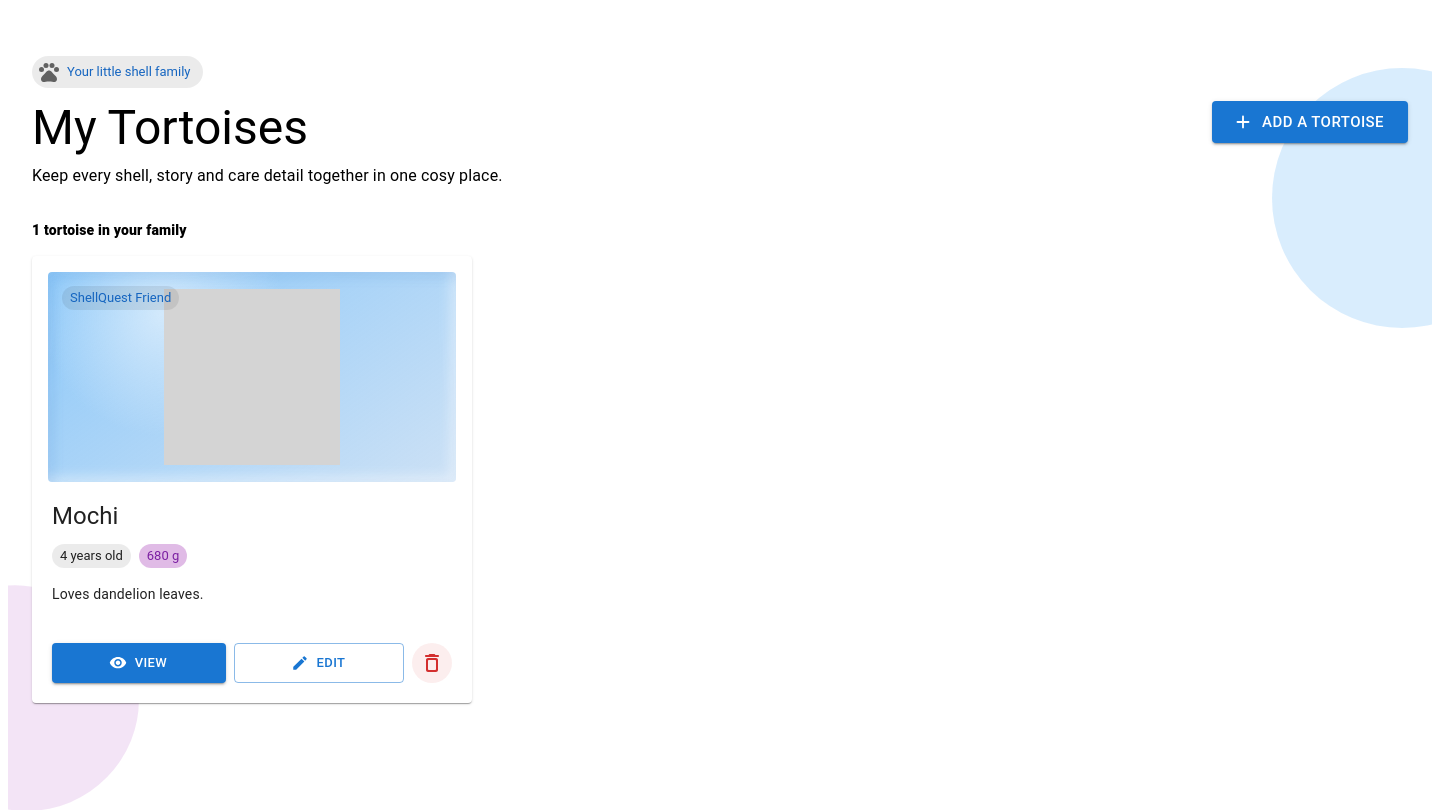
Test: MyTortoisesPage › does not delete when the confirmation dialog is cancelled
Expected: the heading "Mochi" is shown, x1=52 y1=502 x2=118 y2=530
Click the button named "Delete Mochi" at (432, 663), box x1=412 y1=643 x2=452 y2=683
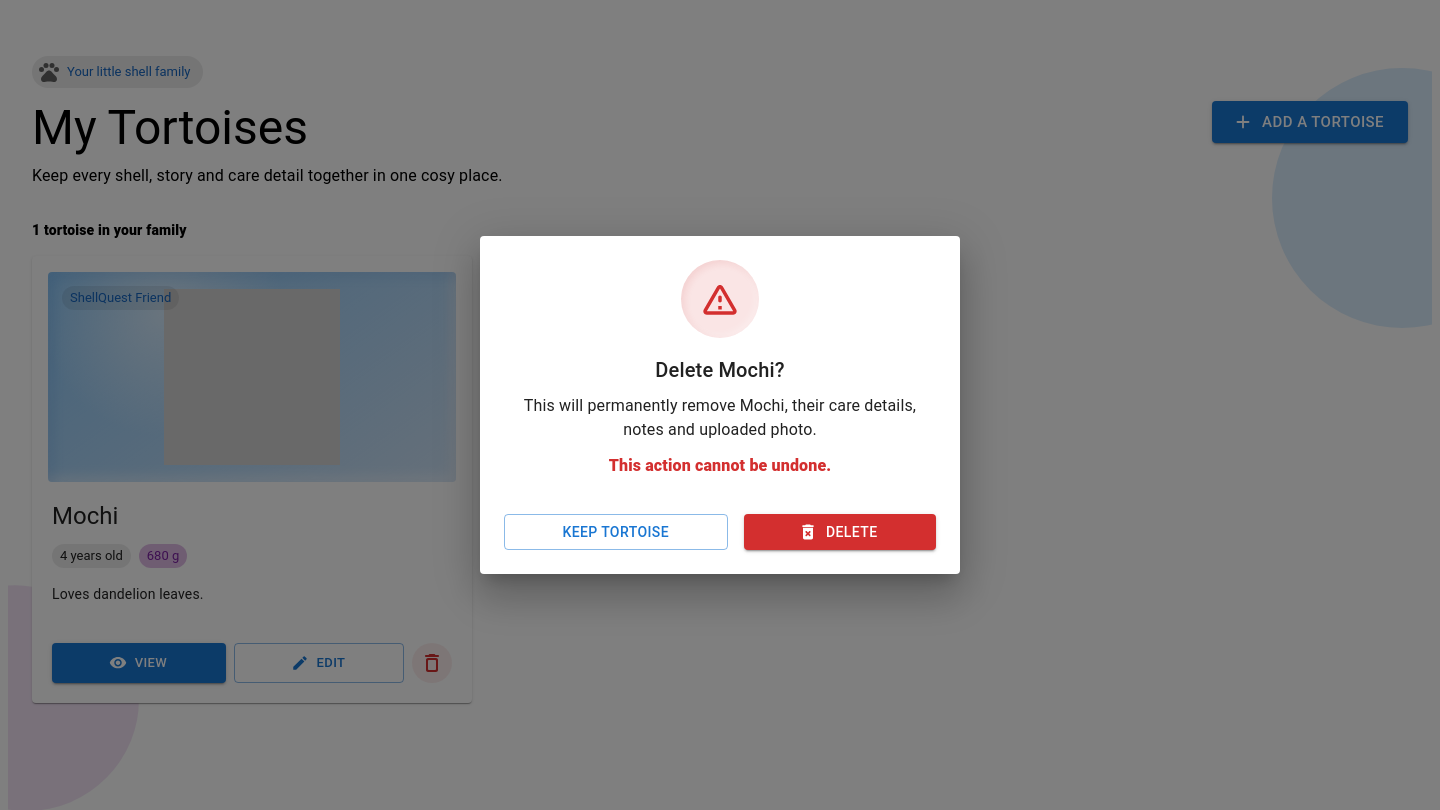
Click the button "Keep tortoise" at (616, 532), box x1=504 y1=514 x2=728 y2=550
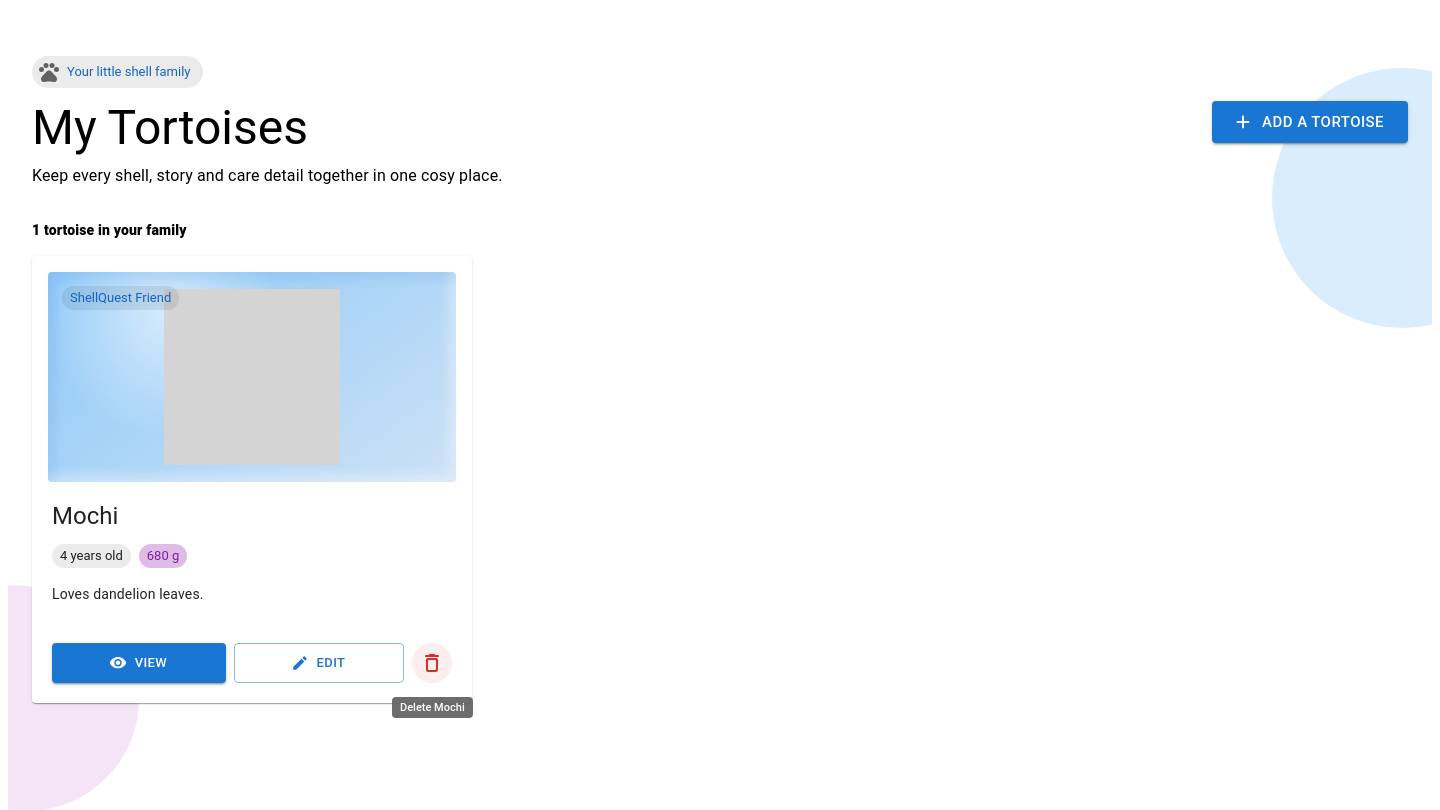
Expected: the heading "Mochi" is shown, x1=52 y1=502 x2=118 y2=530
Now the dialog is gone
